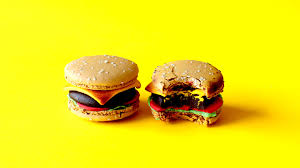hamburger: (61, 57, 143, 121), (147, 60, 226, 126)
